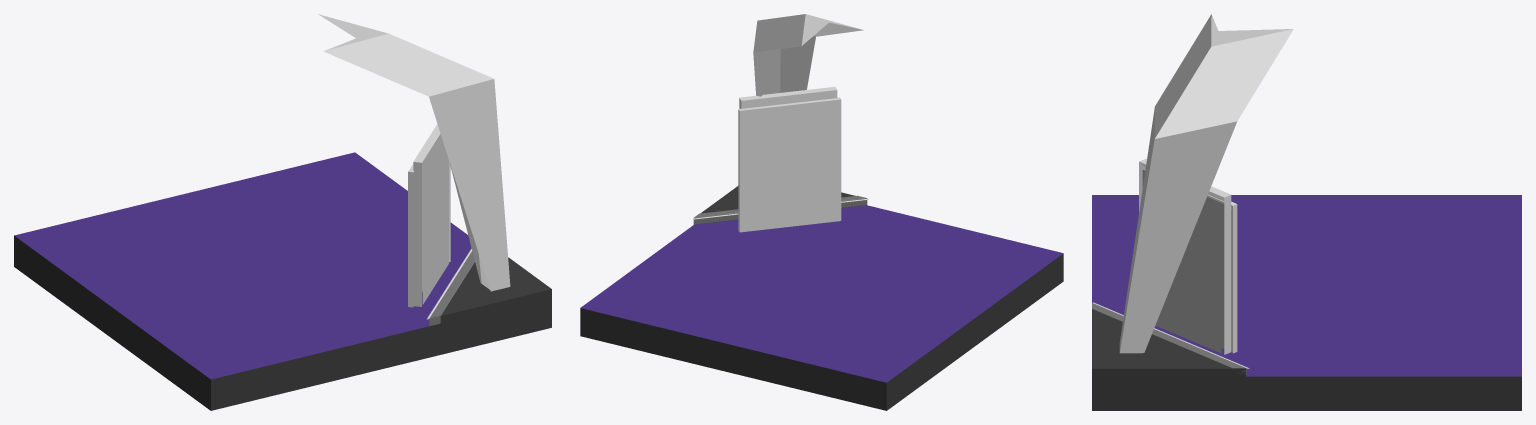
Rendered from curb_6_alternate_corner.fbx.
3 renders of one model, left to right at view 1: azimuth 30°, elevation 25°; view 2: azimuth 150°, elevation 25°; view 3: azimuth 270°, elevation 25°, orthographic. The views are drawn at different scales.
Parts seen in each view (by area): view 1: Ground 5 - Corner.001, Cube.138, Billboard 2.008|Billboard 1.007|Dupli|2, Ground Riser.015, Billboard 2.008|Billboard 1.005|Dupli|, Billboard 2.008|Billboard 1.006|Dupli|1, Curb.012; view 2: Ground 5 - Corner.001, Billboard 2.008|Billboard 1.006|Dupli|1, Cube.138, Billboard 2.008|Billboard 1.005|Dupli|, Curb.012, Ground Riser.015; view 3: Ground 5 - Corner.001, Cube.138, Billboard 2.008|Billboard 1.007|Dupli|2, Ground Riser.015, Billboard 2.008|Billboard 1.005|Dupli|, Billboard 2.008|Billboard 1.006|Dupli|1, Curb.012.
Boxes of the visible parts, x1=… form: Ground 5 - Corner.001: x1=14, y1=152, x2=551, y2=410; Cube.138: x1=318, y1=14, x2=510, y2=291; Billboard 2.008|Billboard 1.007|Dupli|2: x1=422, y1=137, x2=448, y2=304; Ground Riser.015: x1=429, y1=257, x2=551, y2=328; Billboard 2.008|Billboard 1.005|Dupli|: x1=413, y1=124, x2=450, y2=306; Billboard 2.008|Billboard 1.006|Dupli|1: x1=408, y1=164, x2=414, y2=307; Curb.012: x1=429, y1=251, x2=474, y2=326; Ground 5 - Corner.001: x1=580, y1=205, x2=1063, y2=410; Billboard 2.008|Billboard 1.006|Dupli|1: x1=738, y1=97, x2=841, y2=232; Cube.138: x1=753, y1=14, x2=861, y2=96; Billboard 2.008|Billboard 1.005|Dupli|: x1=739, y1=86, x2=837, y2=108; Curb.012: x1=693, y1=195, x2=867, y2=224; Ground Riser.015: x1=700, y1=186, x2=855, y2=213; Ground 5 - Corner.001: x1=1092, y1=195, x2=1521, y2=410; Cube.138: x1=1119, y1=14, x2=1293, y2=353; Billboard 2.008|Billboard 1.007|Dupli|2: x1=1142, y1=170, x2=1221, y2=353; Ground Riser.015: x1=1092, y1=309, x2=1245, y2=379; Billboard 2.008|Billboard 1.005|Dupli|: x1=1139, y1=158, x2=1231, y2=354; Billboard 2.008|Billboard 1.006|Dupli|1: x1=1207, y1=195, x2=1237, y2=353; Curb.012: x1=1092, y1=303, x2=1246, y2=376.
Bounding box in the file's own units: 800 × 629 × 800.
